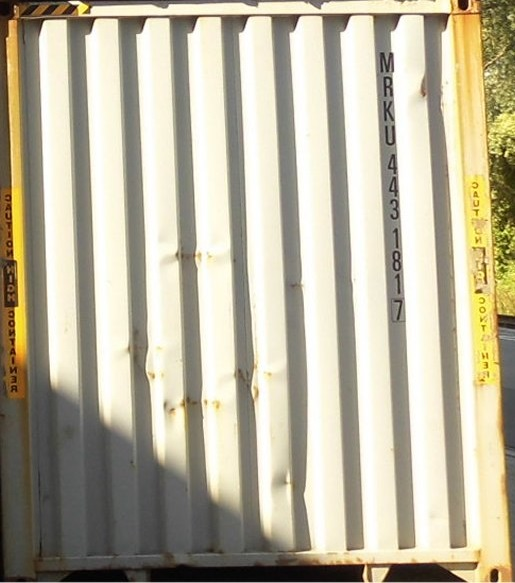container_no_door: (1, 2, 496, 582)
